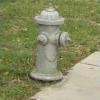a fire hydrant: (30, 6, 70, 82)
